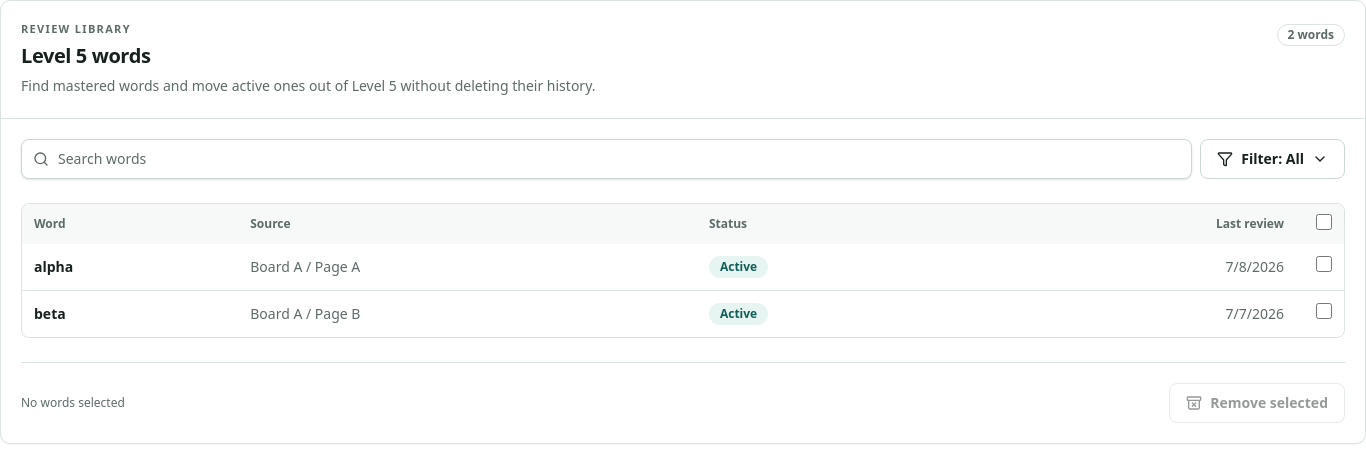
Test: LevelFiveSettingsPage redesigned management › moves selected words to Trash immediately and removes them from the Level 5 list
Expected: the text "alpha" is shown, [22,244,238,290]
Click the checkbox named "Select alpha": {"x": 1324, "y": 264} [1316,256,1332,272]
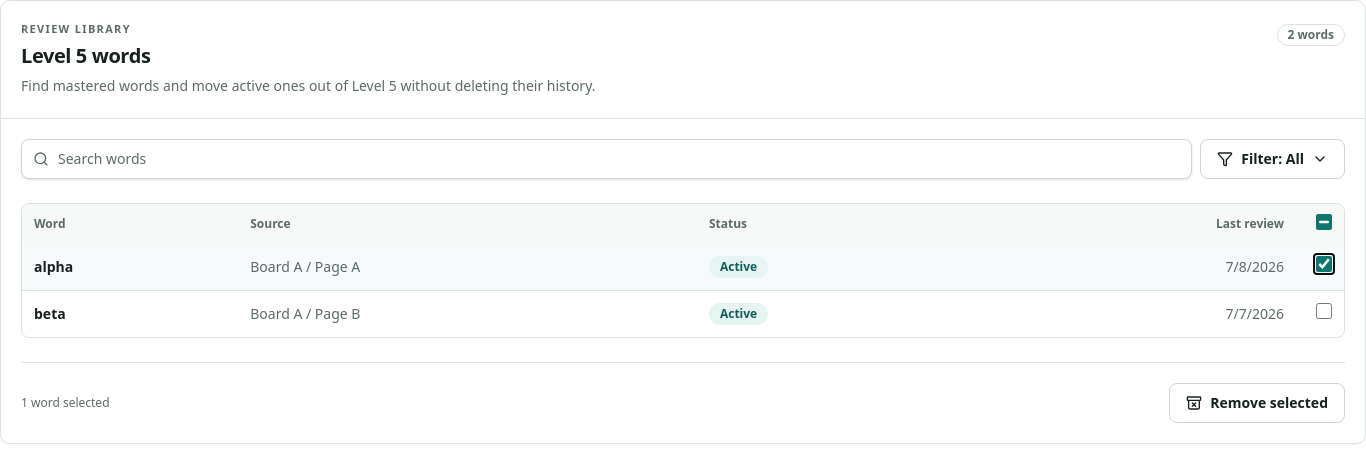
Click the button "Remove selected": {"x": 1257, "y": 402} [1169,382,1345,422]
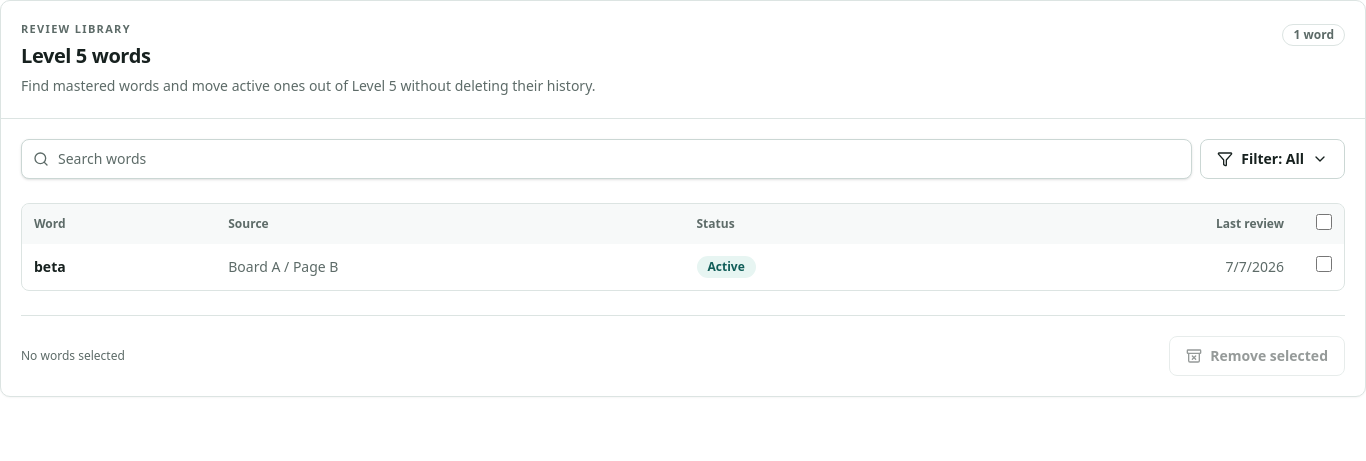
Now the button "Remove selected" is disabled, box [1169,336,1345,376]
Now the text "alpha" is gone
